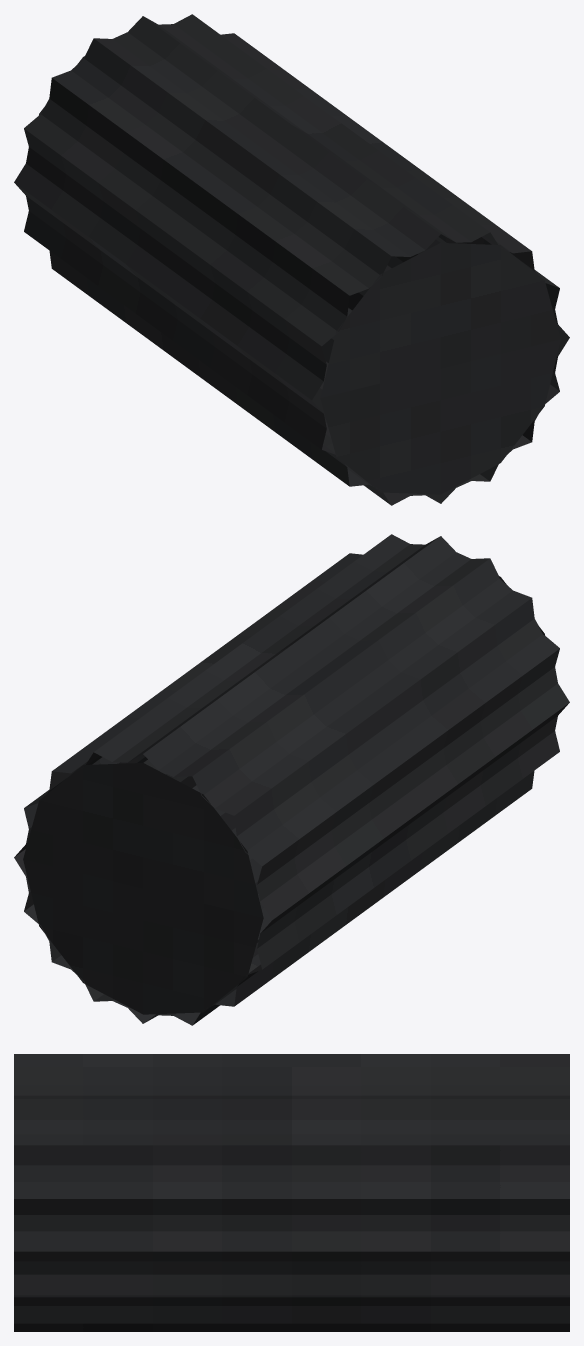
File: decopole_lafluted_shaft.obj
3 views of the same model, one above another, from view 1: azimuth 30°, elevation 25°; view 2: azimuth 150°, elevation 25°; view 3: azimuth 270°, elevation 25° (orthographic). The views are drawn at different scales.
Parts seen in each view (by area): view 1: decopole_lafluted_shaft; view 2: decopole_lafluted_shaft; view 3: decopole_lafluted_shaft.
Part boxes in pixels (x1=…): decopole_lafluted_shaft: x1=14, y1=14, x2=569, y2=505; decopole_lafluted_shaft: x1=14, y1=534, x2=569, y2=1025; decopole_lafluted_shaft: x1=14, y1=1054, x2=569, y2=1331.
Bounding box in the file's own units: 0.5 × 0.5 × 1.
